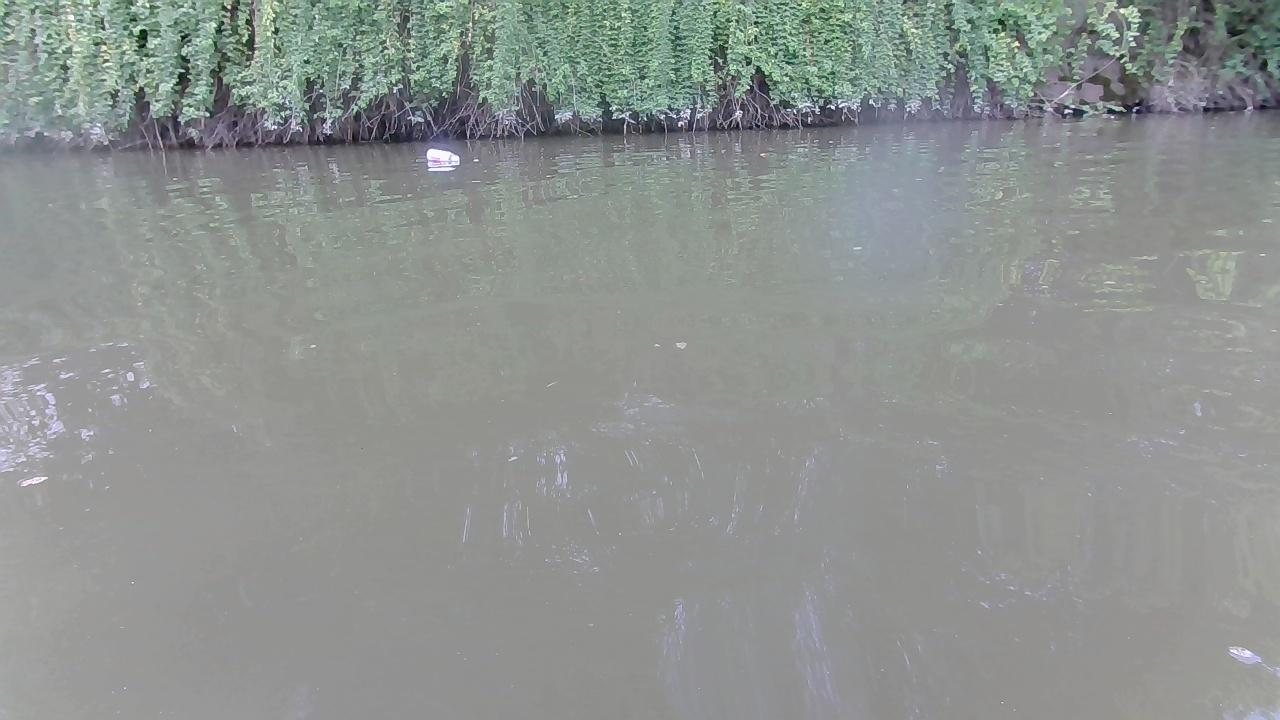bottle: (421, 147, 462, 169)
